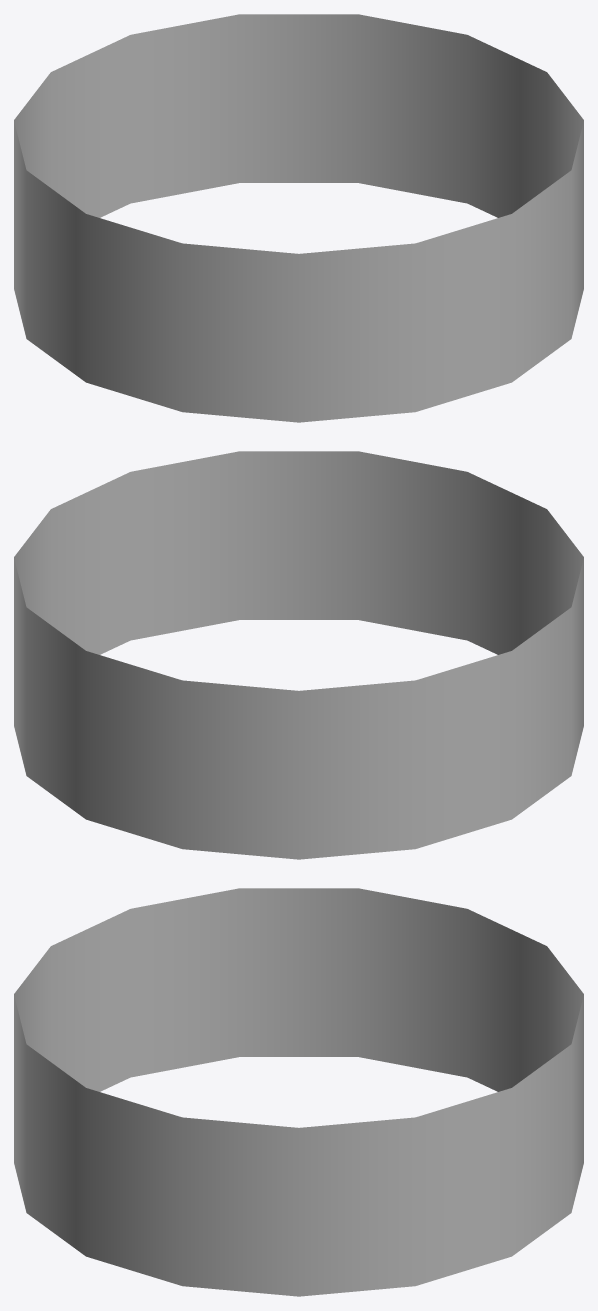
File: hani.fbx
3 renders of one model, top to bottom at view 1: azimuth 30°, elevation 25°; view 2: azimuth 150°, elevation 25°; view 3: azimuth 270°, elevation 25°, orthographic.
Visible parts, largest first — view 1: pSphere1; view 2: pSphere1; view 3: pSphere1.
Boxes of the visible parts, left/top/right/bottom form: pSphere1: left=14, top=14, right=583, bottom=422; pSphere1: left=14, top=451, right=583, bottom=859; pSphere1: left=14, top=888, right=583, bottom=1296.
Bounding box in the file's own units: 64.21 × 21.09 × 64.57.
1 material, 1 textured.
